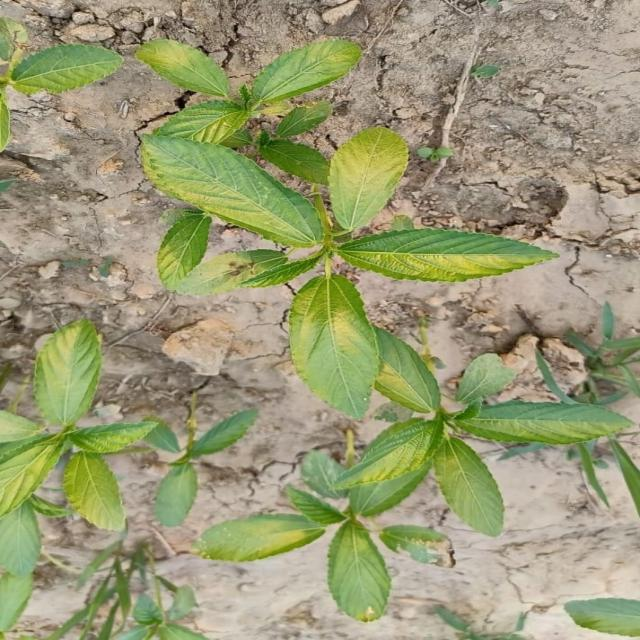plant: (137, 40, 626, 621), (0, 320, 180, 629), (0, 20, 121, 141), (156, 410, 256, 524)
